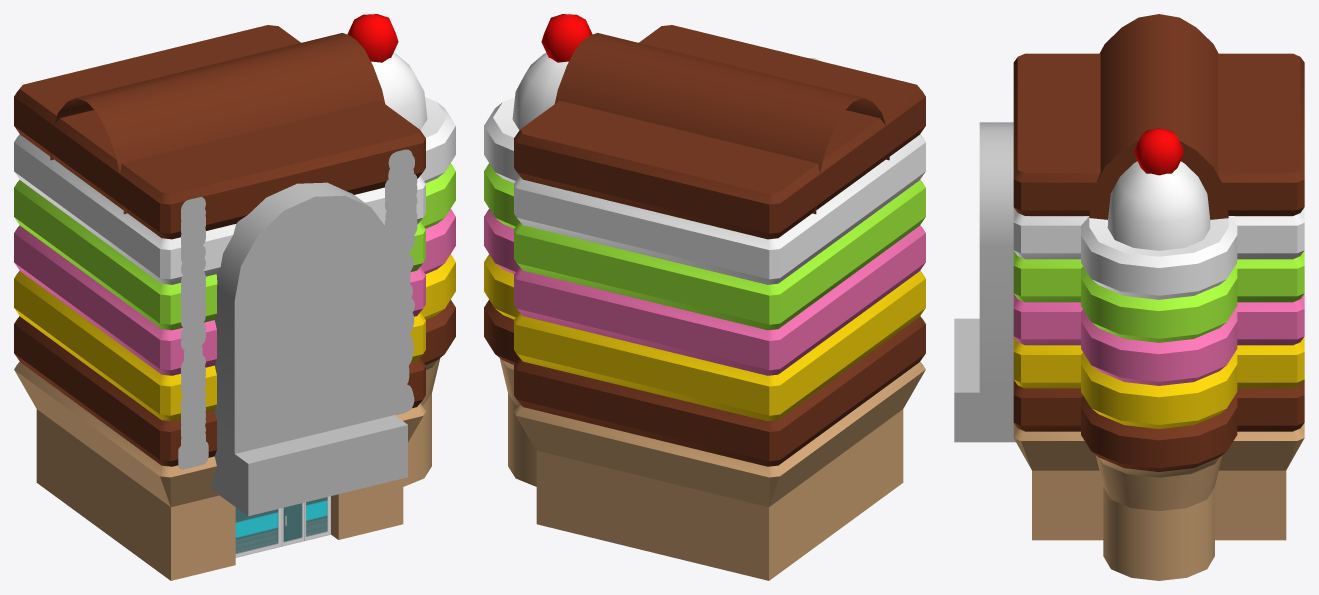
The model's file is Town_Bld_IceCream_C.FBX.
The picture shows the model from 3 angles, left to right: view 1: azimuth 30°, elevation 25°; view 2: azimuth 150°, elevation 25°; view 3: azimuth 270°, elevation 25°; orthographic projection. The views are drawn at different scales.
Parts seen in each view (by area): view 1: Town_Bld_IceCream_C; view 2: Town_Bld_IceCream_C; view 3: Town_Bld_IceCream_C.
Part boxes in pixels (x1,y1,x2,y2): Town_Bld_IceCream_C: (14, 14, 455, 580); Town_Bld_IceCream_C: (484, 14, 925, 580); Town_Bld_IceCream_C: (954, 14, 1304, 580).
Size of the model in its own units: 980 by 1181 by 877.
